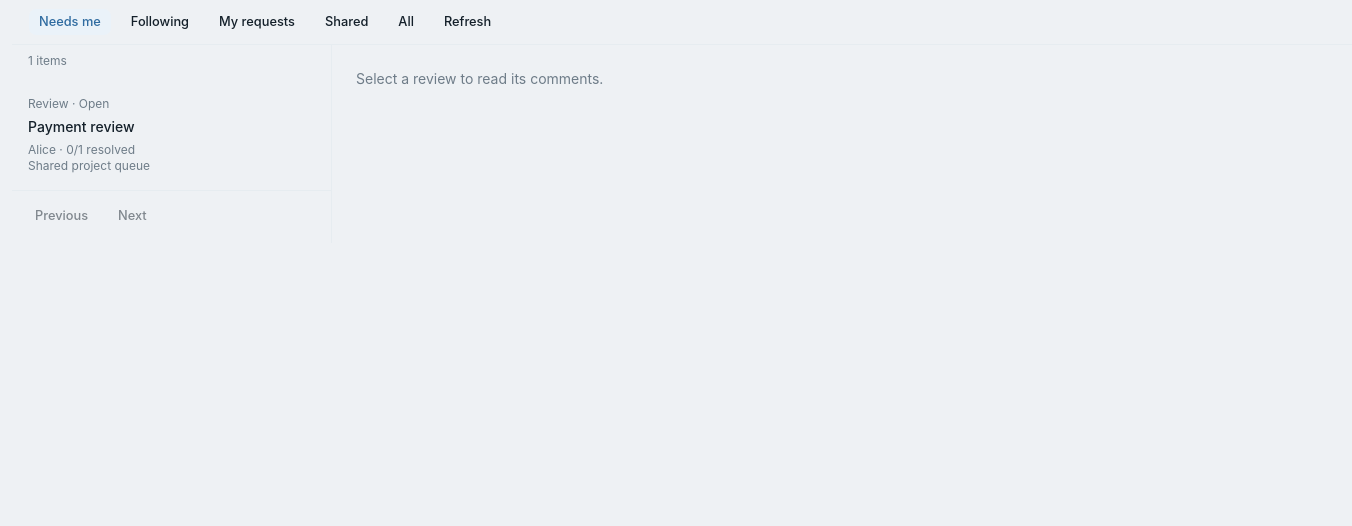
Test: review inbox › keeps thread resolution distinct from finishing a review and links both views
Click the button "Payment review" at (48, 104), box [12,77,331,191]
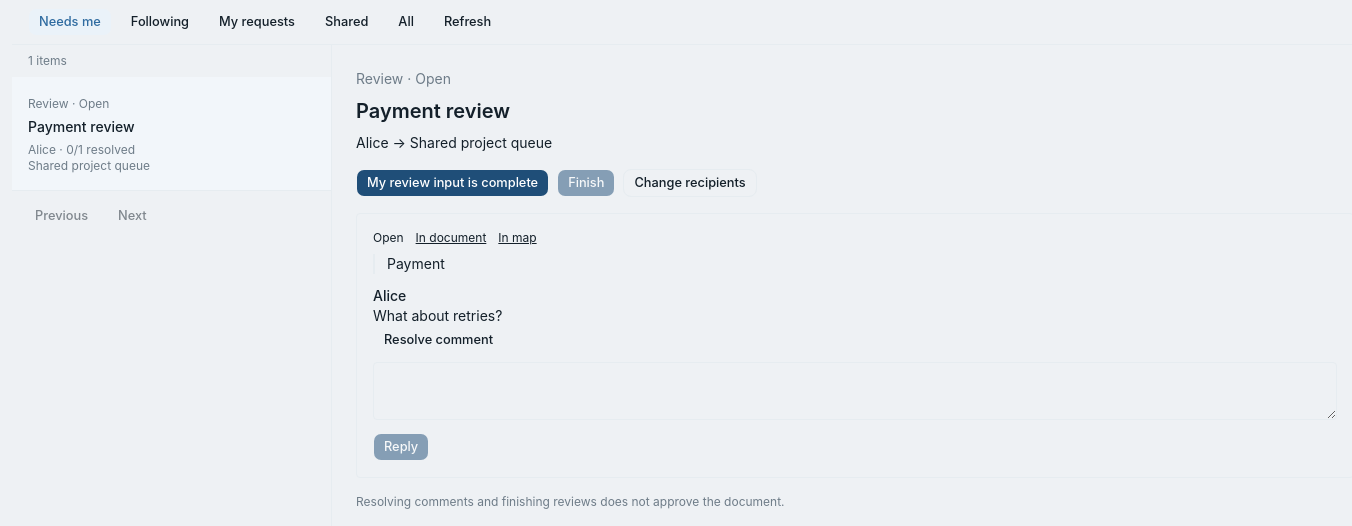
Now the button "Finish" is disabled, box [557,169,615,197]
Click the button "Resolve comment" at (438, 340), box [373,326,504,354]
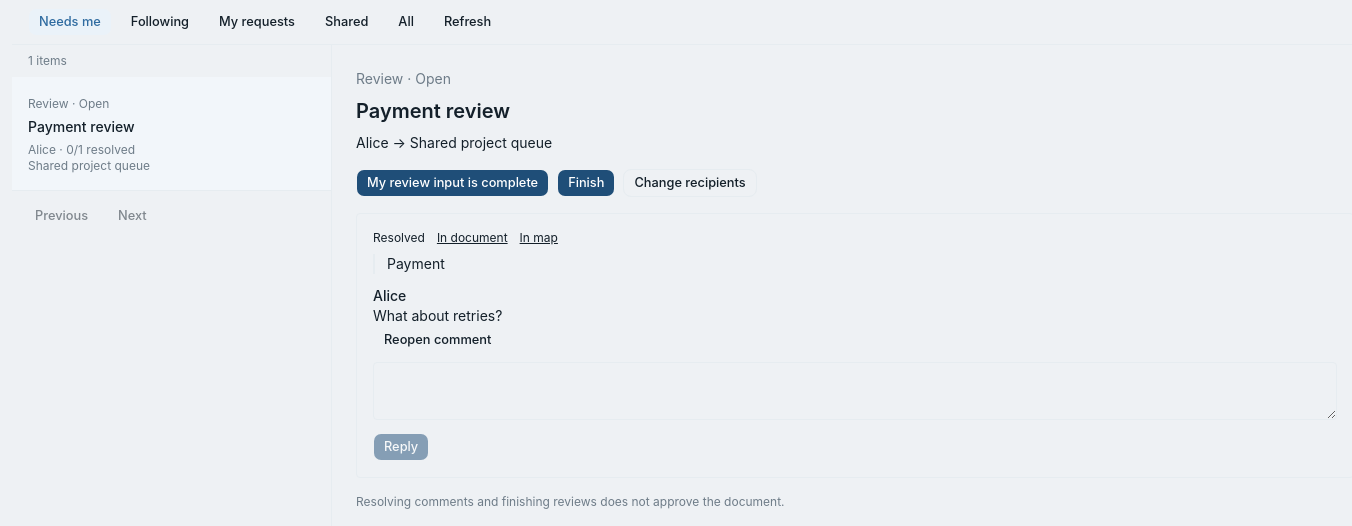
Now the button "My review input is complete" is shown, box [356,169,549,197]
Now the button "Finish" is enabled, box [557,169,615,197]
Now the button "Reopen comment" is shown, box [373,326,502,354]
